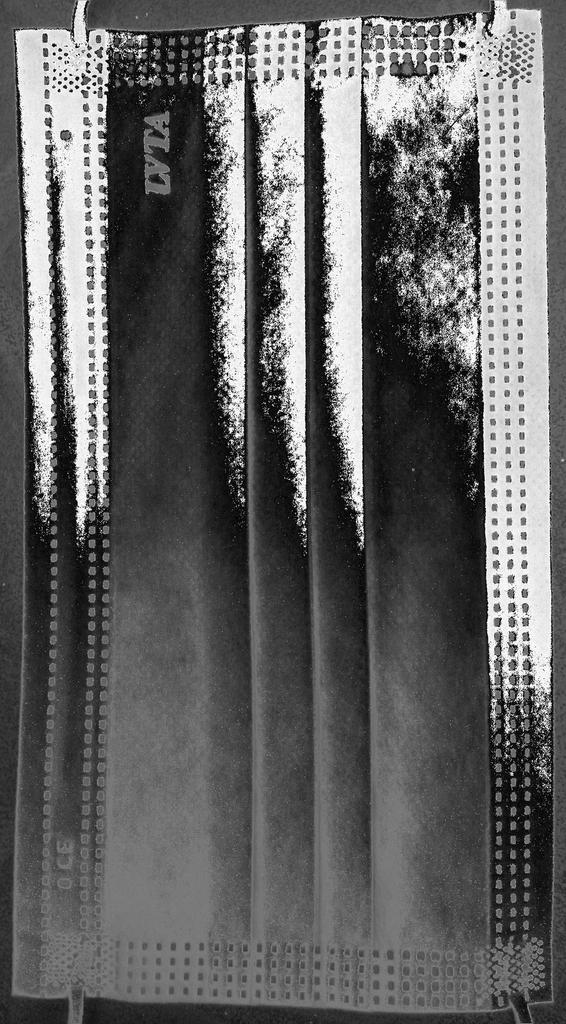High GSM: (5, 6, 558, 566)
